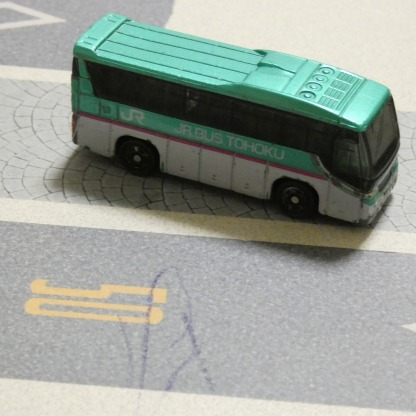car: (61, 13, 401, 238)
